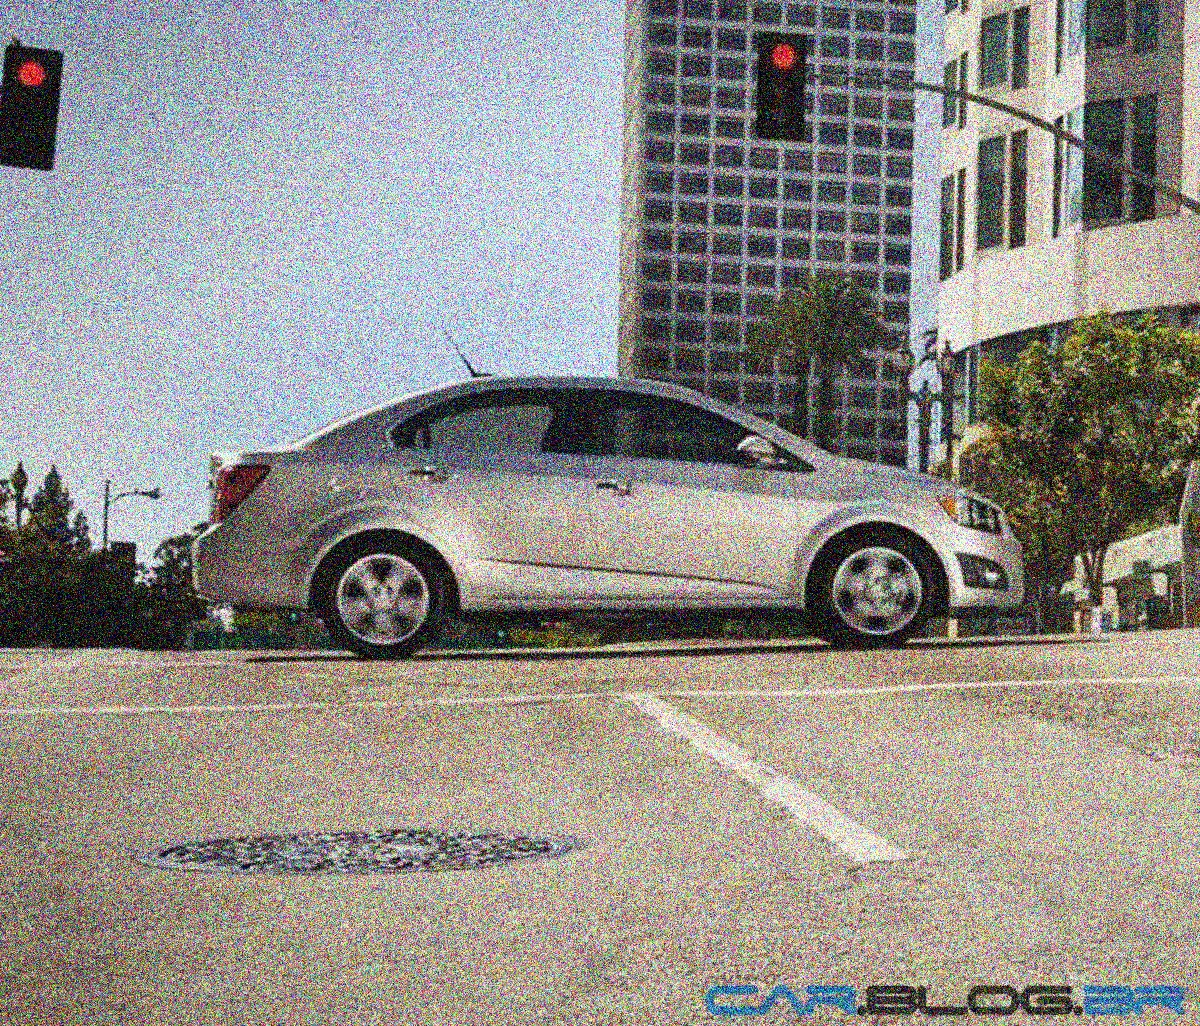car: (171, 317, 1067, 708)
